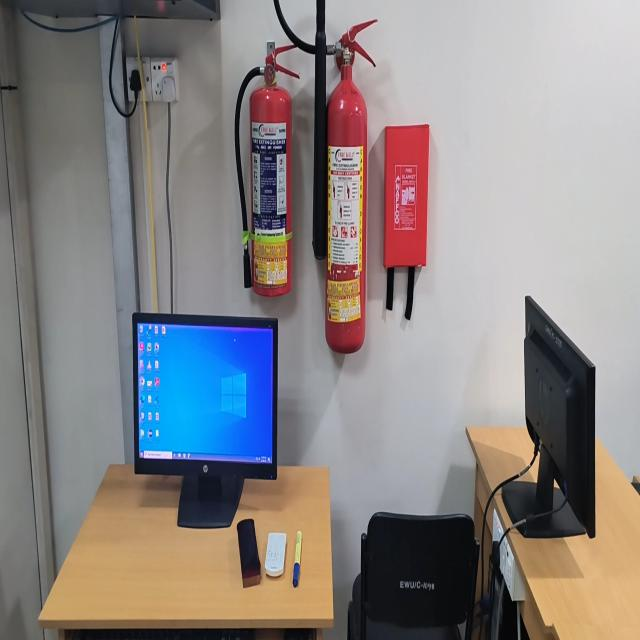Chair: (348, 512, 476, 639)
Cpu: (488, 541, 518, 639), (520, 617, 529, 639)
Fire Extinguisher: (278, 0, 377, 352), (235, 41, 299, 296)
Monitor: (133, 312, 278, 528), (502, 296, 596, 538)
